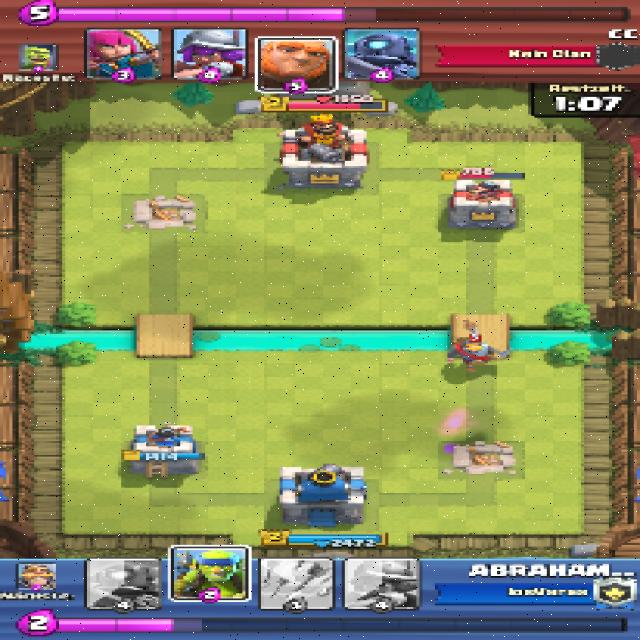Enemy-Knight: (442, 339, 512, 373)
